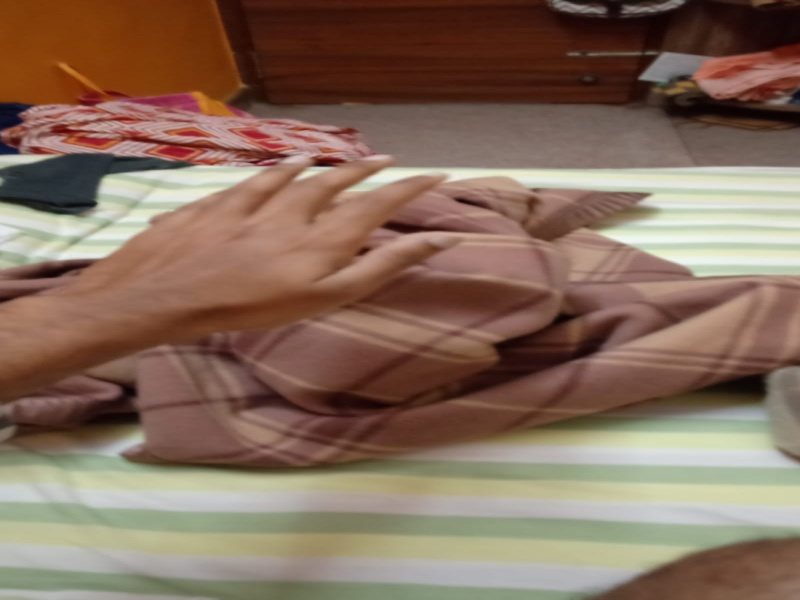Hand: (51, 141, 466, 345)
